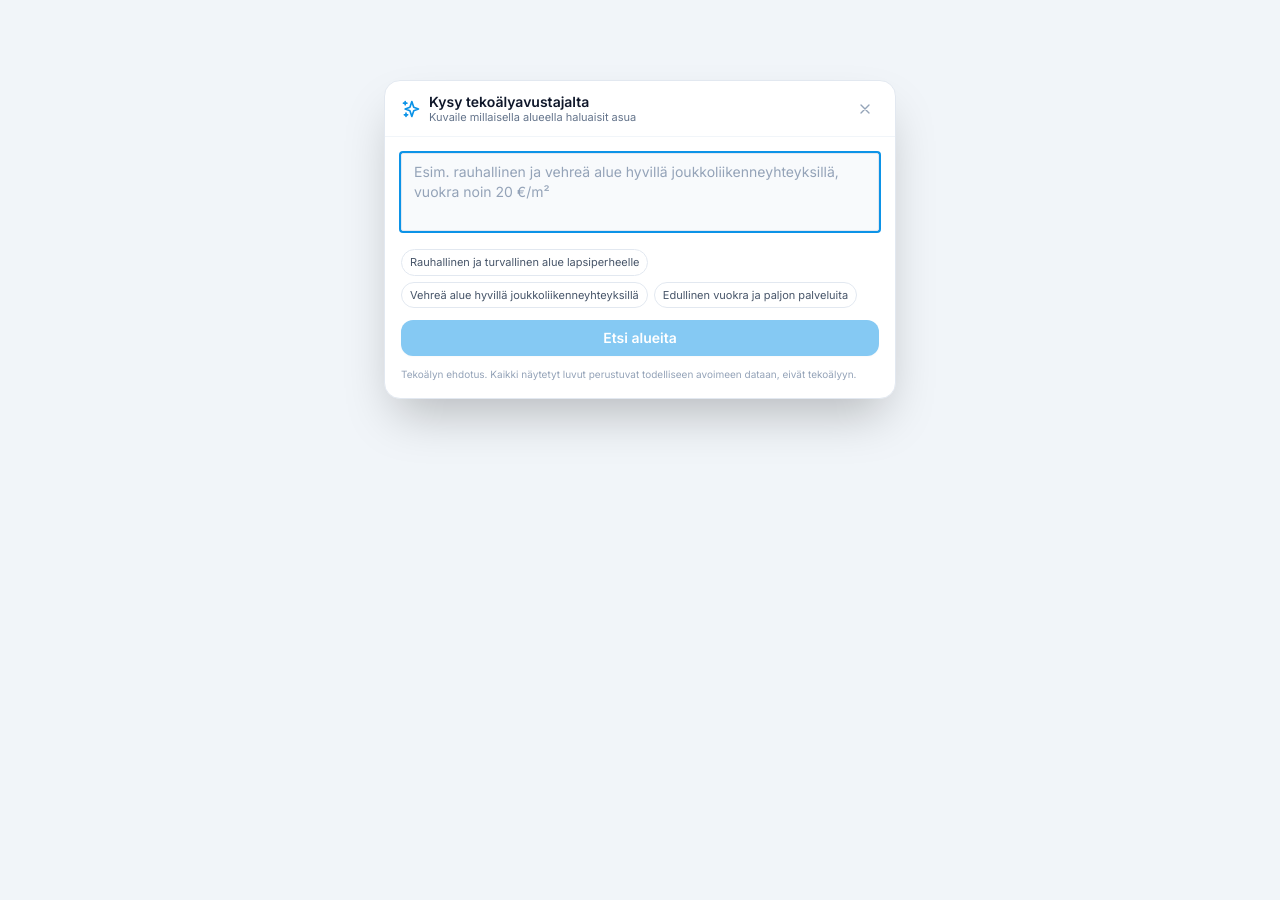
Test: AssistantPanel › shows the no-match message and does not apply when nothing mapped
Replace the text in the text box with "near my mother" at (640, 192), box [401,153,879,231]
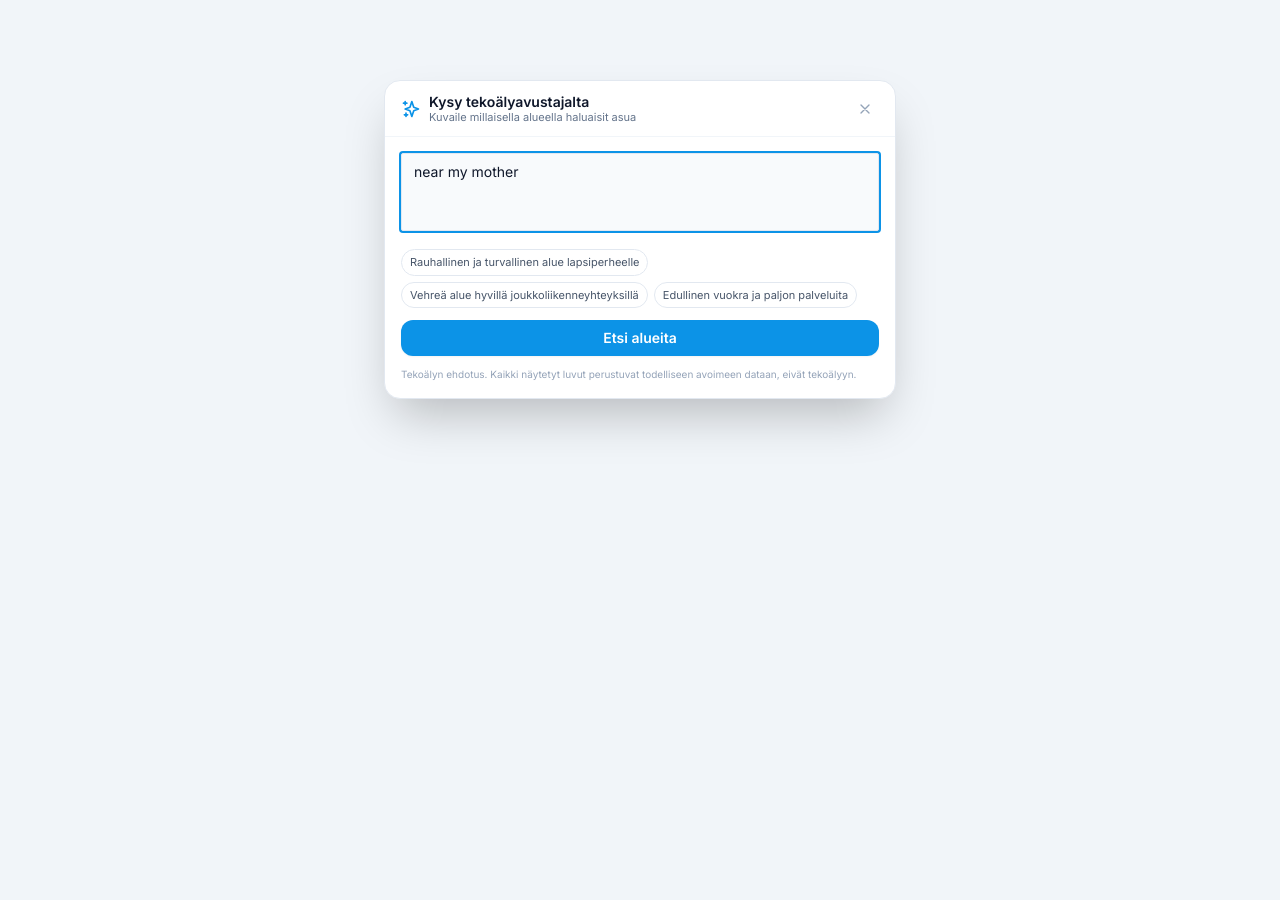
Click the button "Etsi alueita" at (640, 338), box [401,320,879,356]
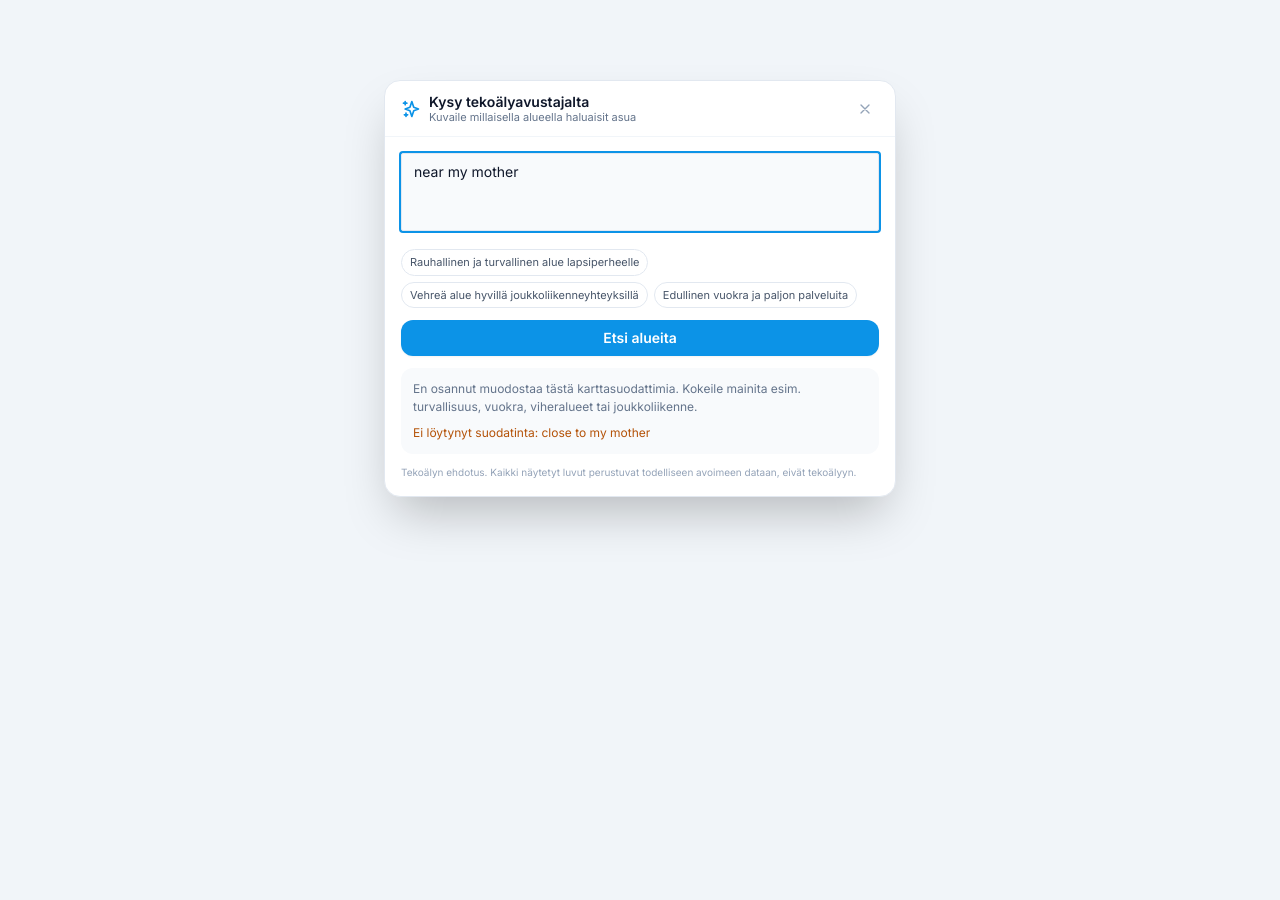
Check: the text "En osannut muodostaa tästä karttasuodattimia. Kokeile mainita esim. turvallisuus, vuokra, viheralueet tai joukkoliikenne" is shown, box [413,381,801,414]
Check: the text "Ei löytynyt suodatinta: close to my mother" is shown, box [413,425,650,440]
